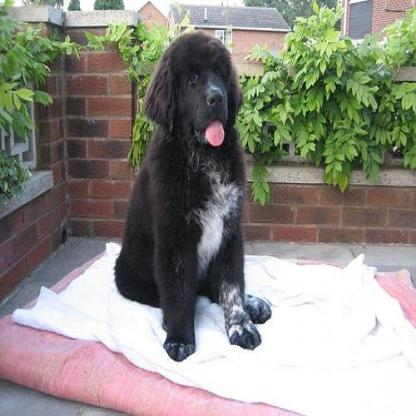Newfoundland: (118, 23, 280, 370)
